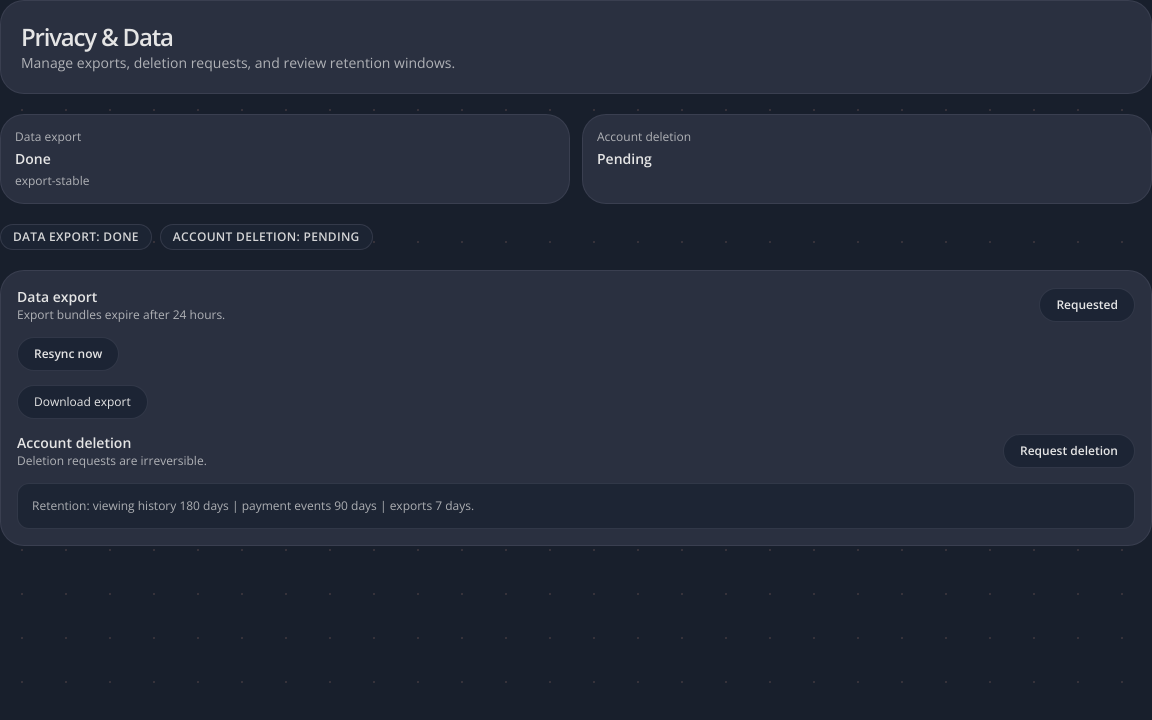
privacy UI › keeps last successful export state when resync fails
This screenshot has width=1152, height=720.
Click the button "Resync now": point(68, 354) [17,337,119,371]
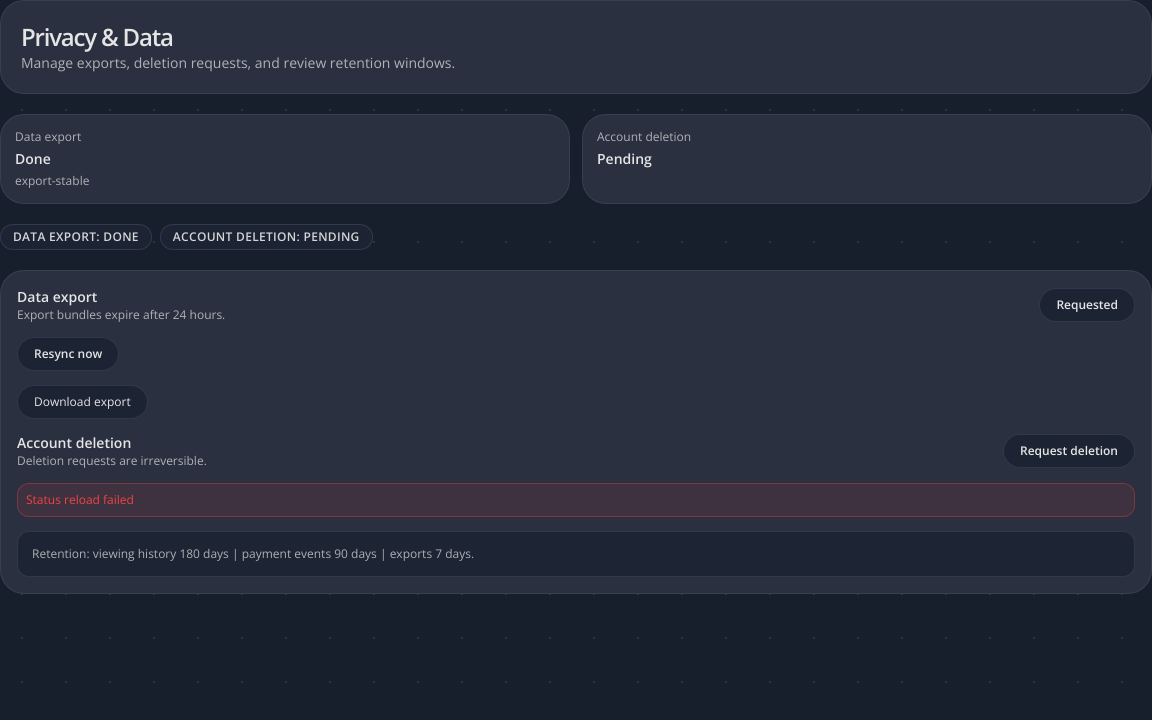
Now the text "Status reload failed" is shown, box [17,483,1135,517]
